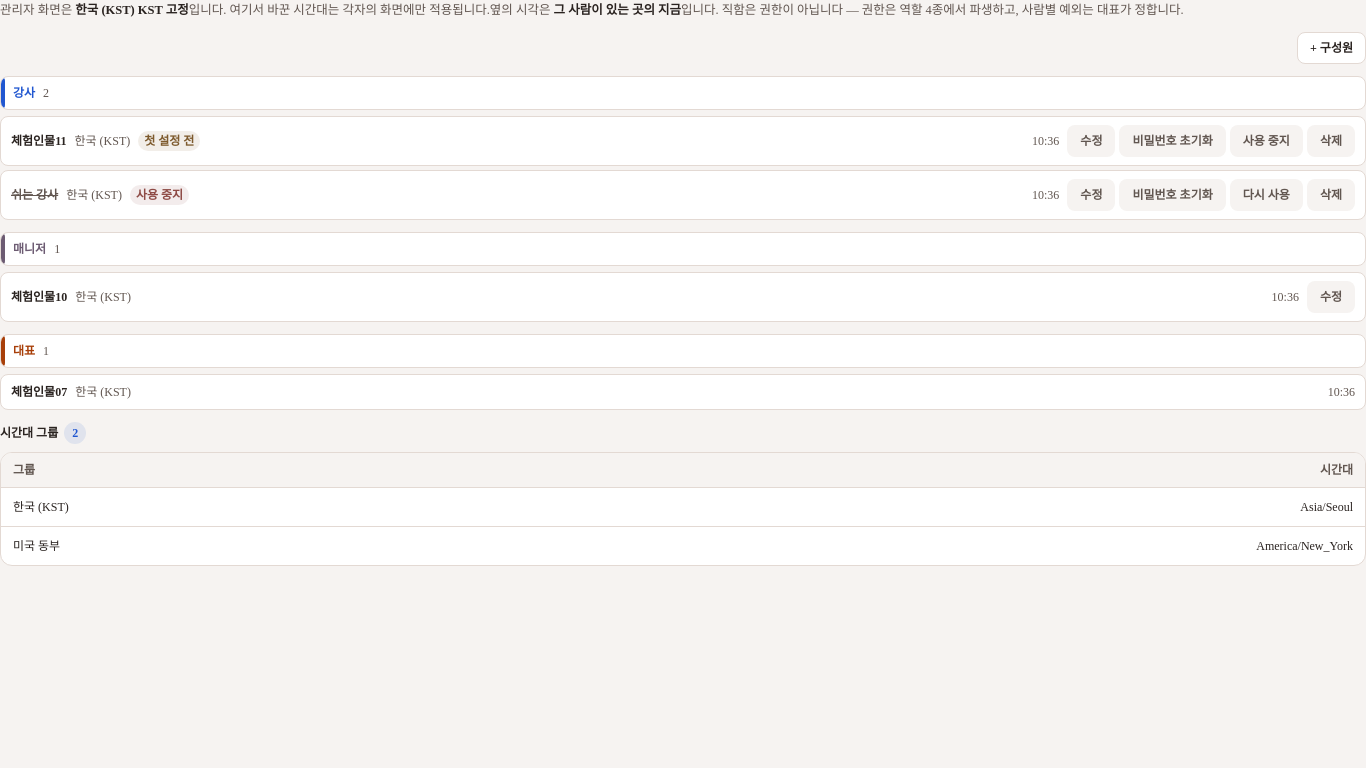
Test: §17 사용자 표 CRUD (W8) › 「비밀번호 초기화」는 매니저가 임시 비밀번호를 적고 한 번 더 누르며, 되면 아이디(응답)와 적은 비밀번호를 보인다 · 복사가 막힌 브라우저에서도 깨지지 않는다 (W10)
Click the button "비밀번호 초기화" in the row of "체험인물11" at [1173, 141], box x1=1120 y1=125 x2=1226 y2=157
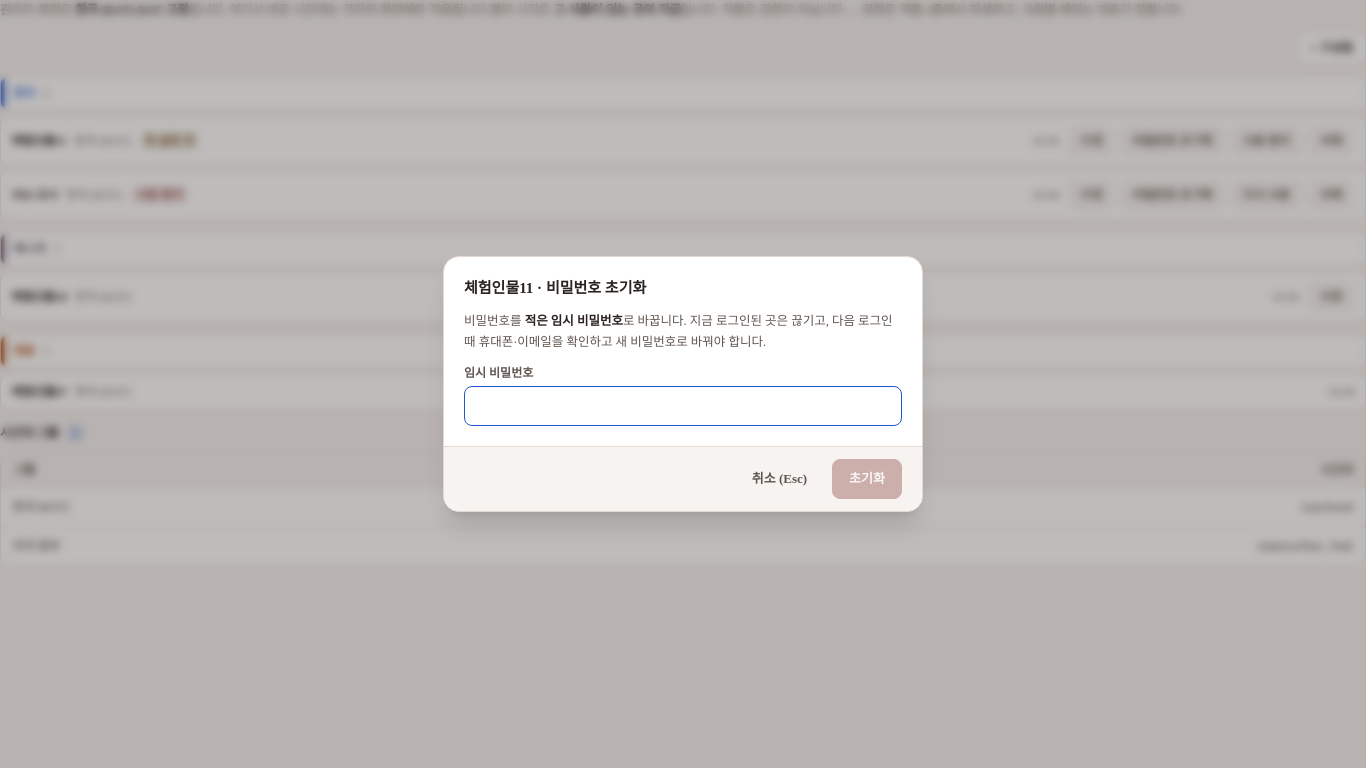
Check: the dialog shows "지금 로그인된 곳은 끊기고", box x1=464 y1=314 x2=892 y2=349
Check: the button "초기화" is disabled, box x1=832 y1=459 x2=902 y2=499
Type "Reset-pass-7" into the field labelled "임시 비밀번호" at [683, 406], box x1=464 y1=386 x2=902 y2=426
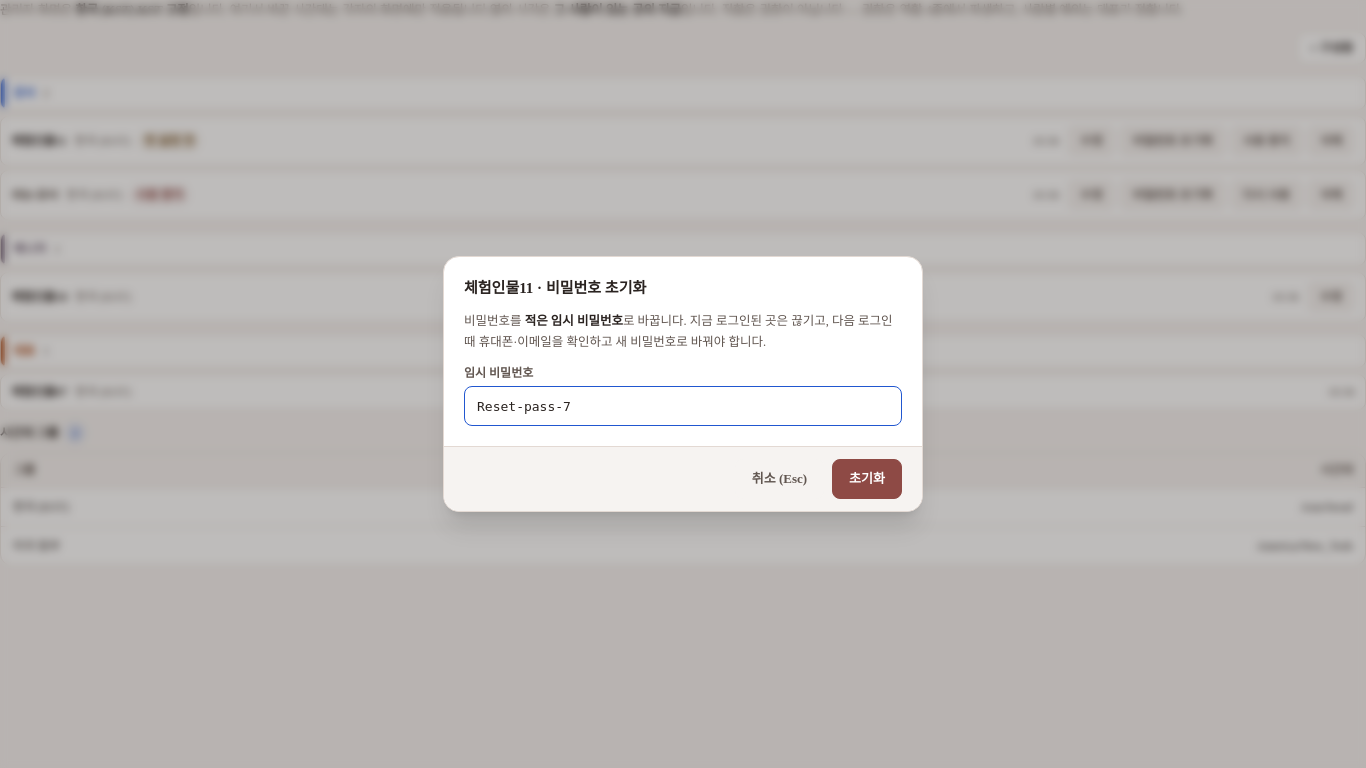
Check: the button "초기화" is enabled
Click the button "초기화" at [867, 479], box x1=832 y1=459 x2=902 y2=499
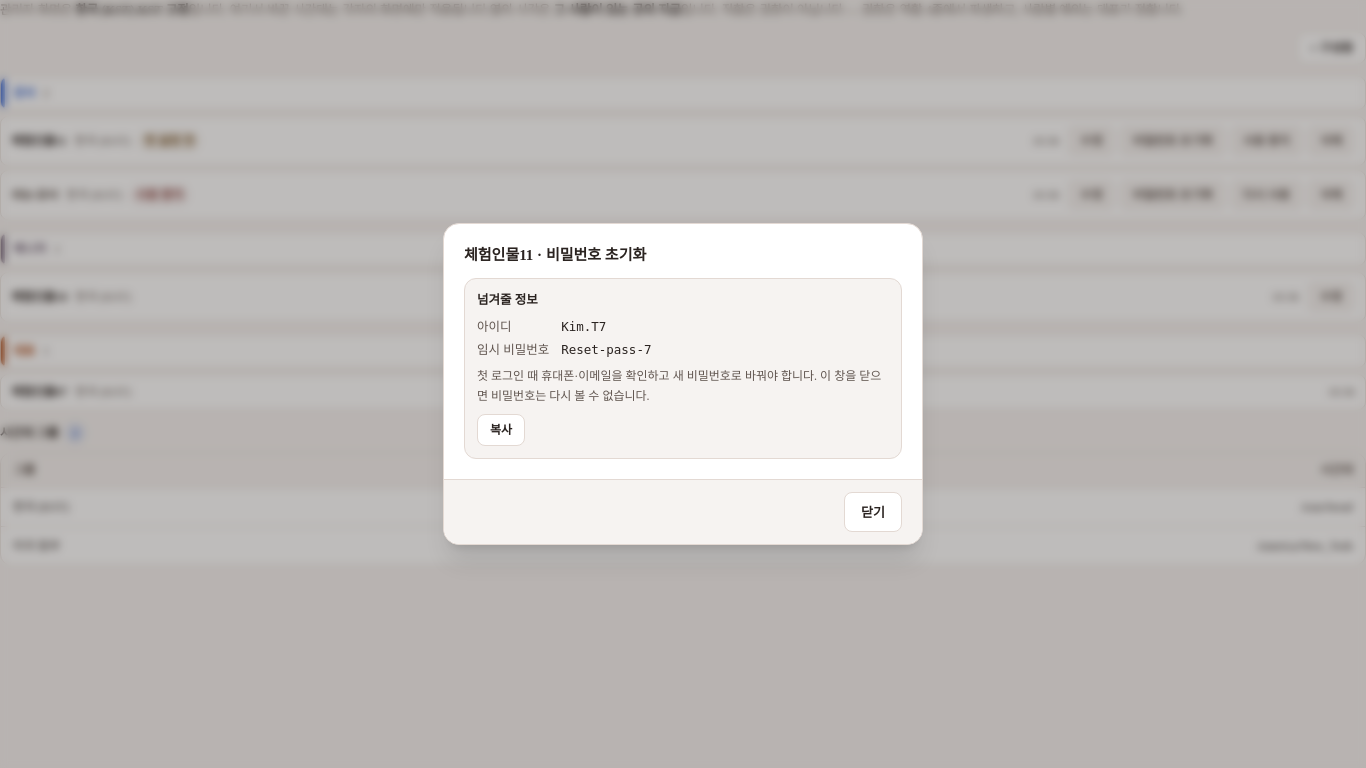
Check: the element "넘겨줄 정보" shows "Kim.T7", box x1=561 y1=319 x2=606 y2=334
Check: the element "넘겨줄 정보" shows "Reset-pass-7", box x1=561 y1=342 x2=651 y2=357
Click the button "복사" at [501, 430], box x1=477 y1=414 x2=525 y2=446
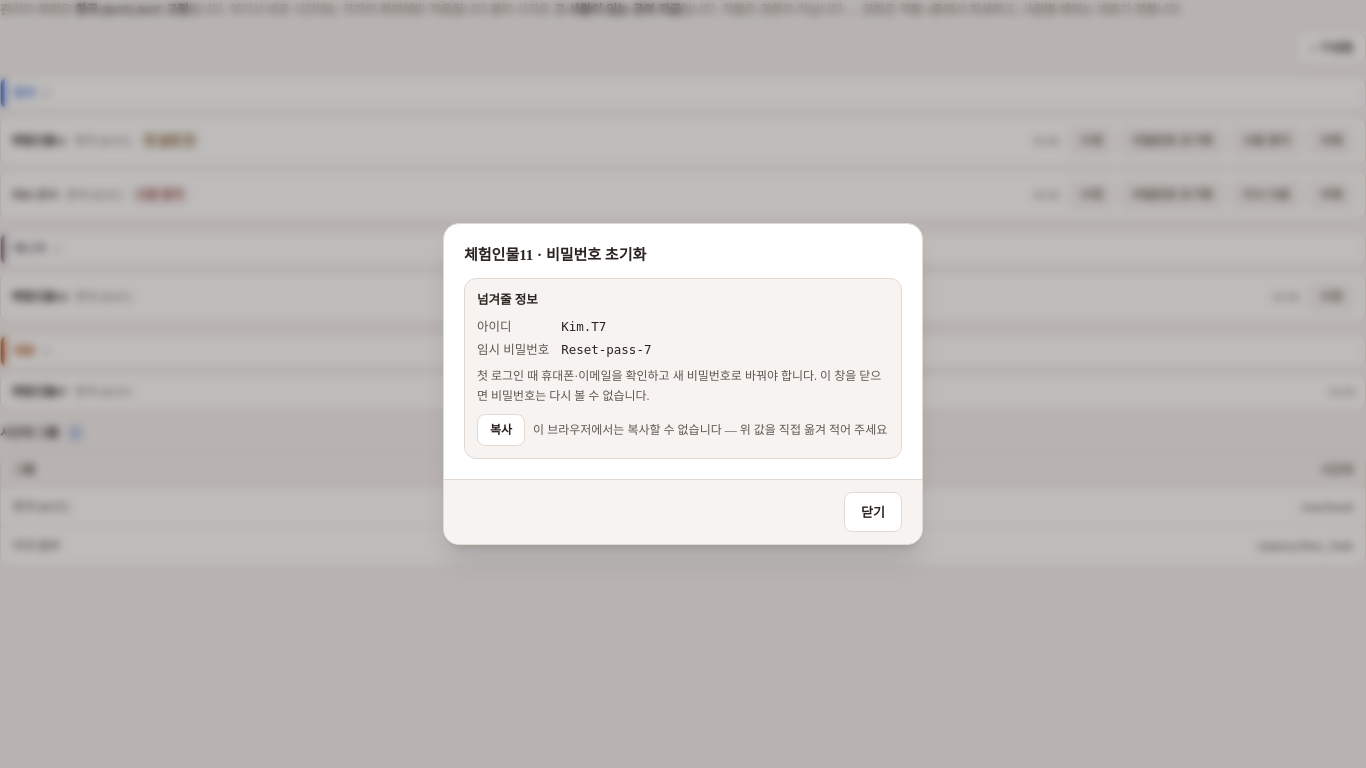
Check: the message shows "직접 옮겨 적어 주세요", box x1=533 y1=423 x2=887 y2=437
